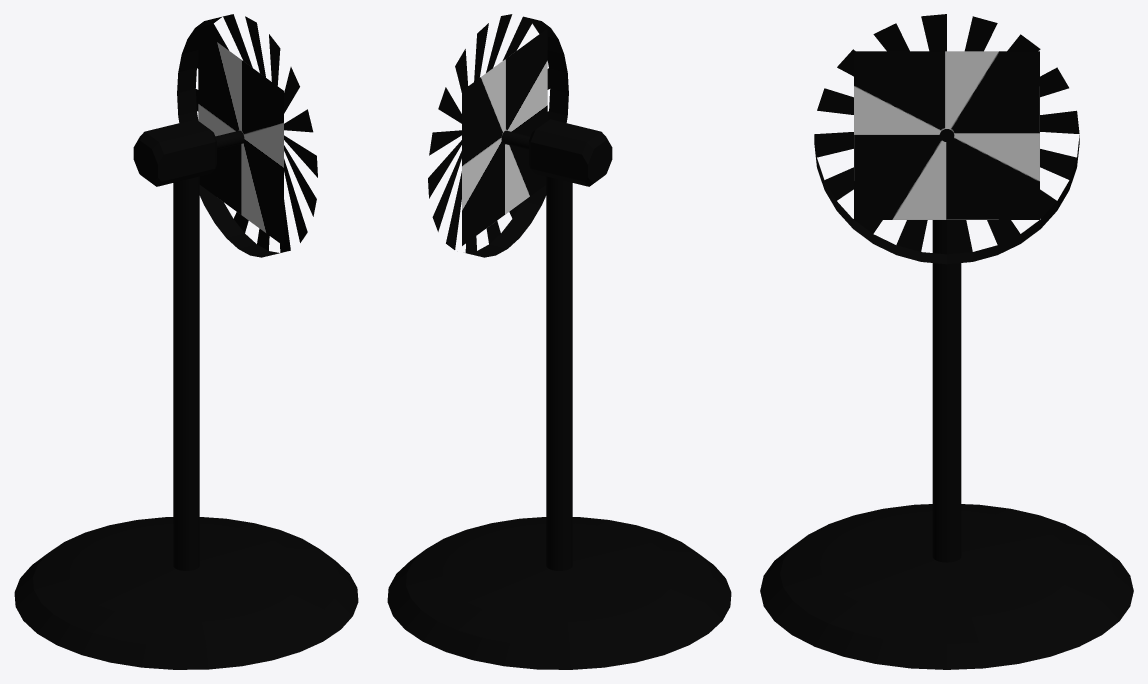
Rendered from Fan.fbx.
3 renders of one model, left to right at view 1: azimuth 30°, elevation 25°; view 2: azimuth 150°, elevation 25°; view 3: azimuth 270°, elevation 25°, orthographic. The views are drawn at different scales.
Parts seen in each view (by area): view 1: Body, Blade; view 2: Body, Blade; view 3: Body, Blade.
Boxes of the visible parts, left/top/right/bottom form: Body: left=14, top=14, right=358, bottom=669; Blade: left=198, top=28, right=283, bottom=245; Body: left=387, top=14, right=731, bottom=669; Blade: left=462, top=28, right=547, bottom=245; Body: left=760, top=14, right=1133, bottom=669; Blade: left=854, top=51, right=1039, bottom=219.
Size of the model in its own units: 200 by 357 by 200.
